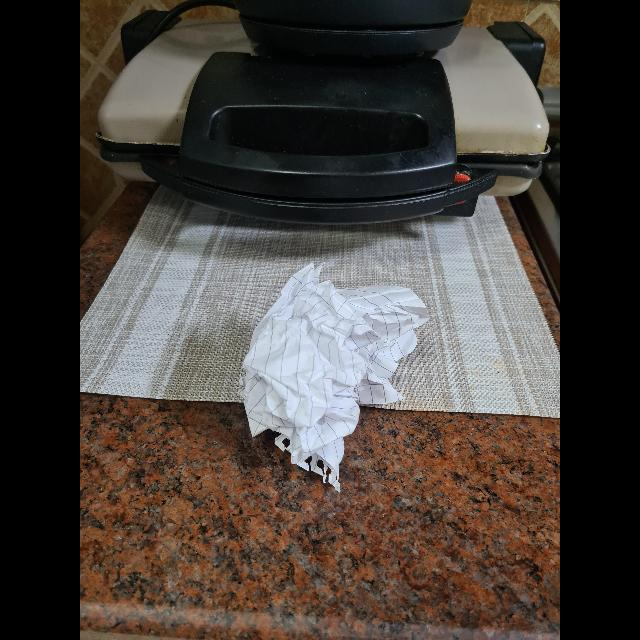trash: (237, 272, 428, 476)
